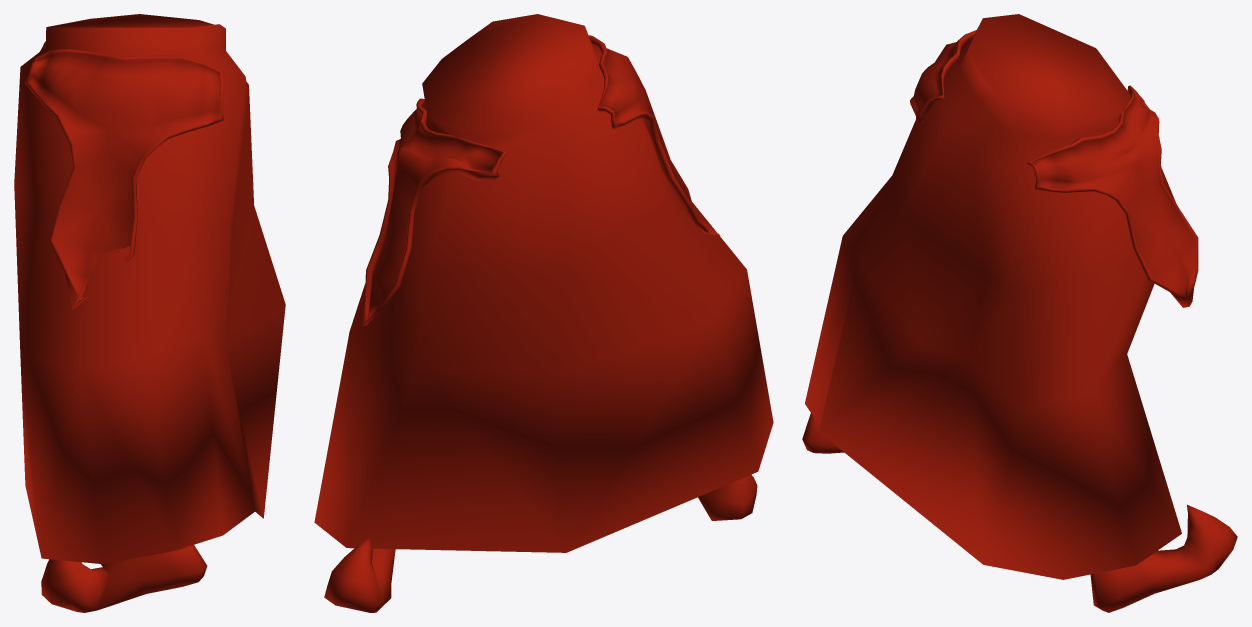
The model's file is bot_000080.obj.
3 views of the same model, side by side, from view 1: azimuth 30°, elevation 25°; view 2: azimuth 150°, elevation 25°; view 3: azimuth 270°, elevation 25° (orthographic). The views are drawn at different scales.
Visible parts, largest first — view 1: LowPoly_Warlock.004_Plane.004; view 2: LowPoly_Warlock.004_Plane.004; view 3: LowPoly_Warlock.004_Plane.004.
Boxes of the visible parts, bbox=[...] form: LowPoly_Warlock.004_Plane.004: bbox=[14, 14, 285, 612]; LowPoly_Warlock.004_Plane.004: bbox=[314, 14, 773, 612]; LowPoly_Warlock.004_Plane.004: bbox=[802, 14, 1237, 612].
Size of the model in its own units: 0.7031 by 1.18 by 0.8835.
